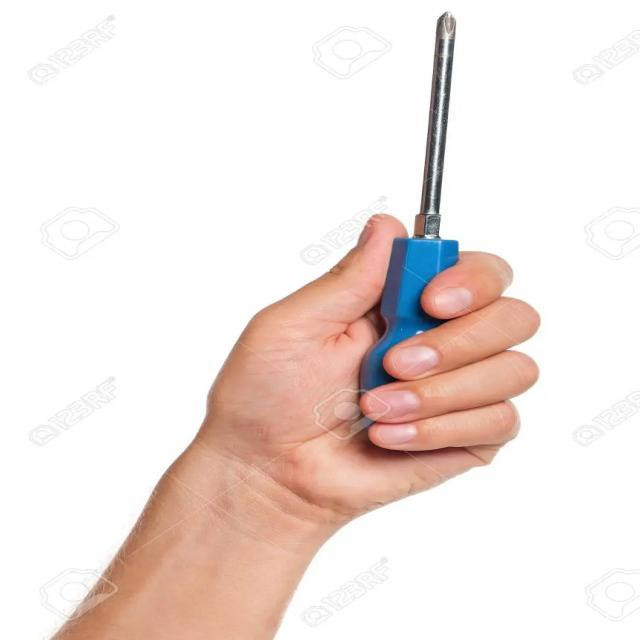screwdriver: (349, 6, 476, 450)
